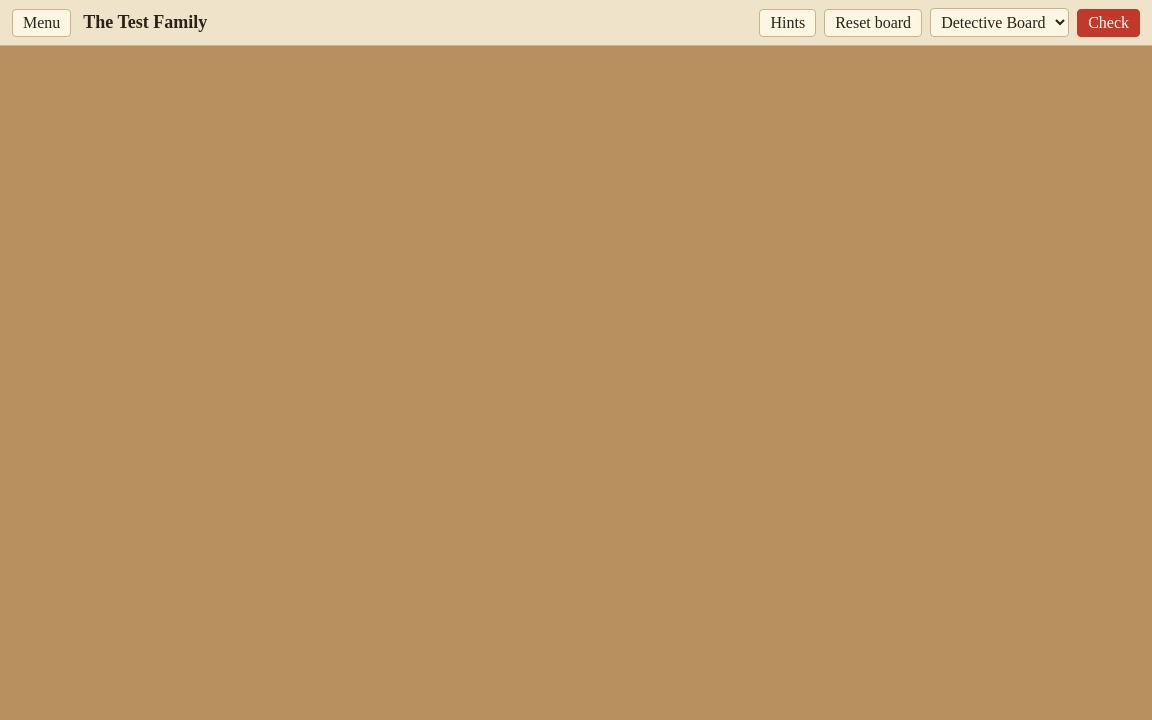
Test: StatusBar › Escape cancels the reset confirmation
The width and height of the screenshot is (1152, 720).
Click the button "Reset board": coordinates (873, 22) [824, 8, 922, 36]
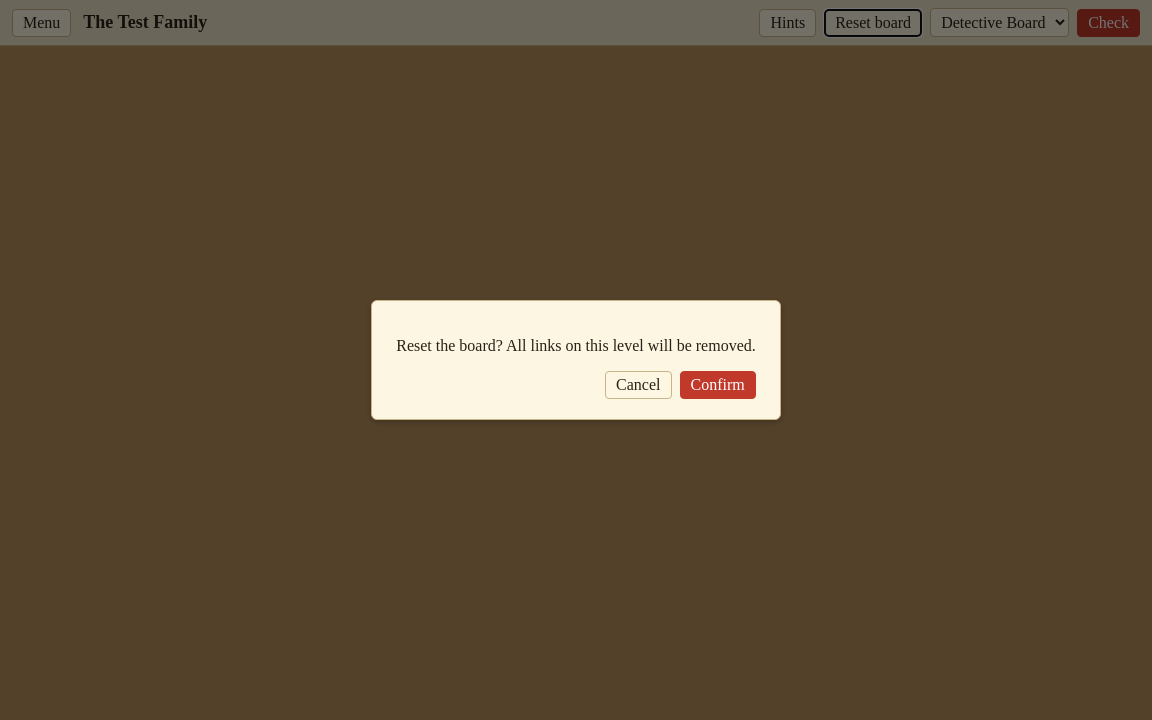
Now the dialog is shown, box [371, 300, 781, 420]
Press Escape
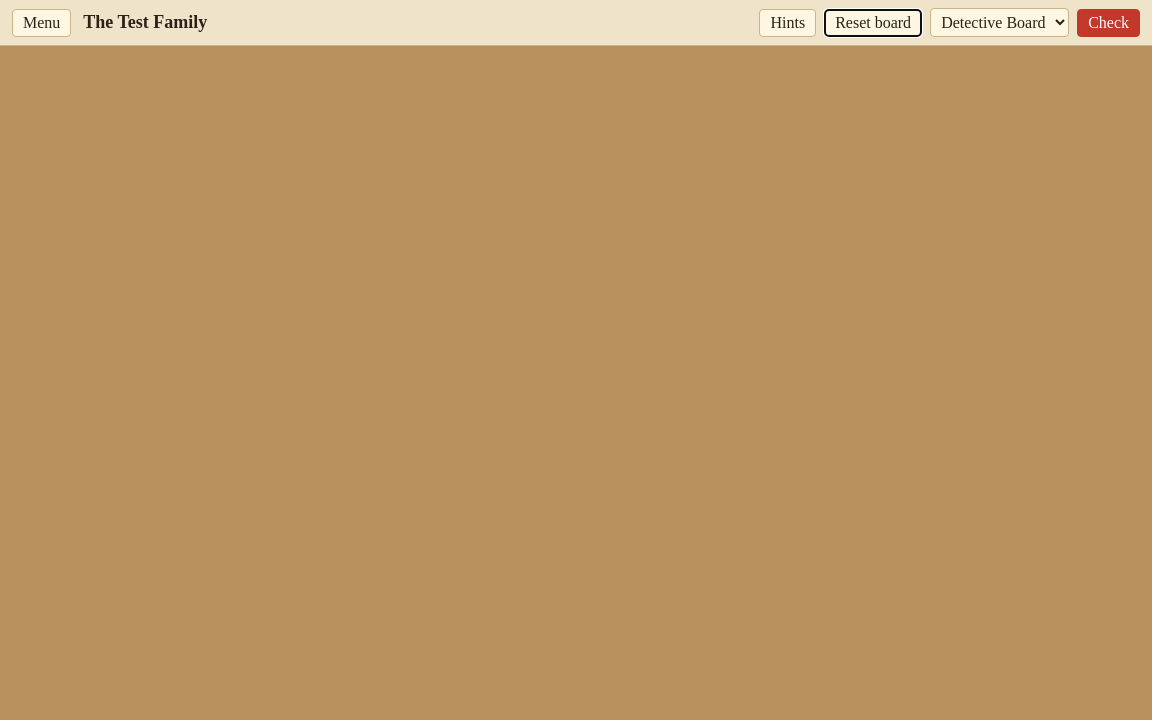
Now the dialog is gone
